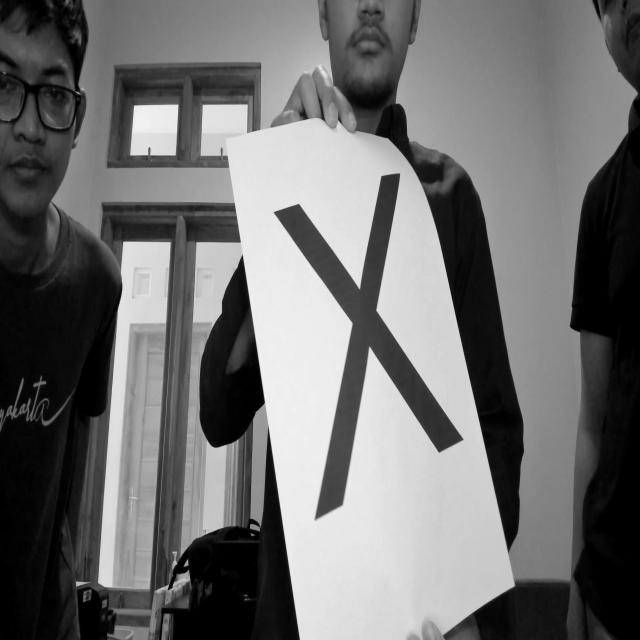x: (256, 154, 484, 553)
